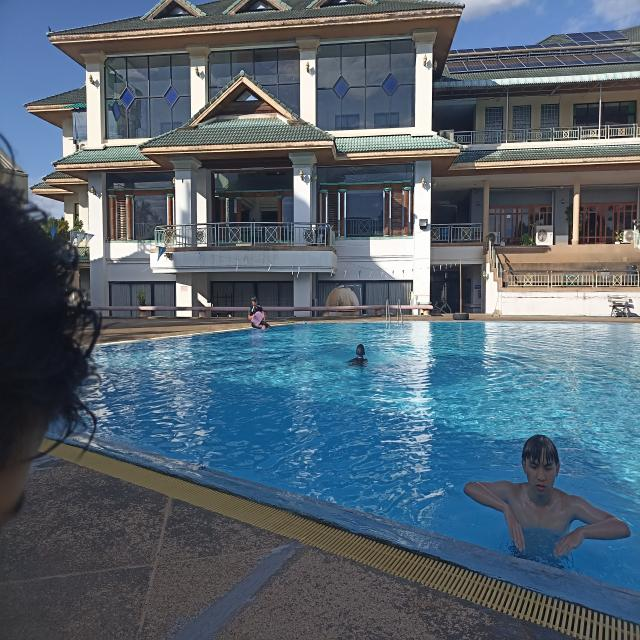Swimming: (456, 431, 636, 570), (338, 335, 374, 374)
